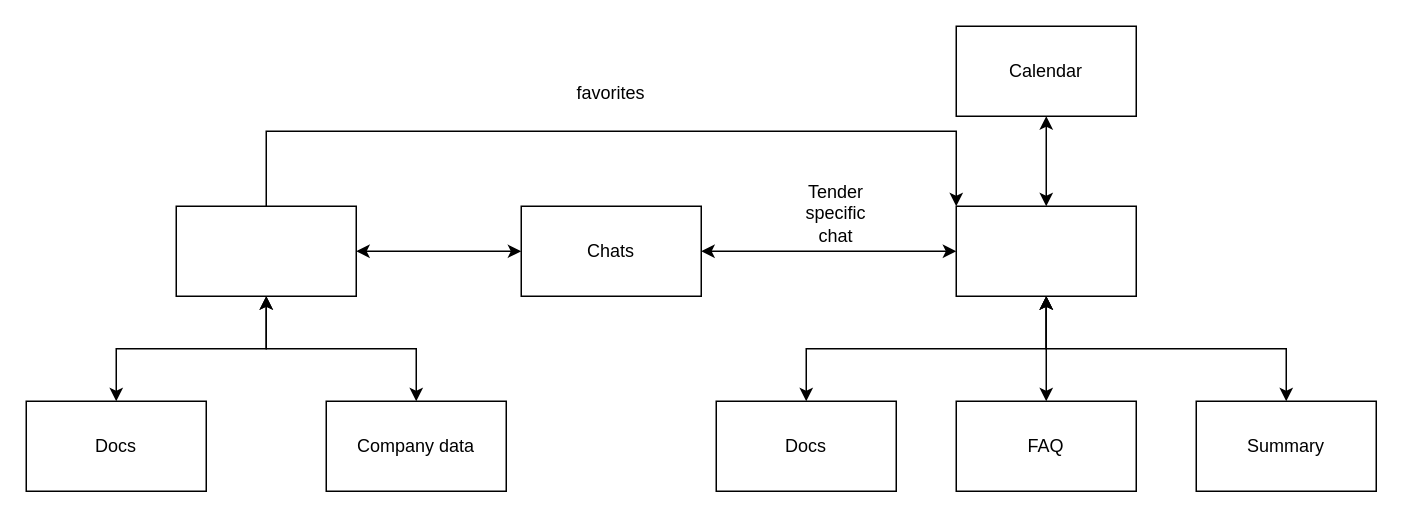
This 1403x518 diagram has some shape labels left out. Each missing label, with the centre of its shape:
"Tenders" goes at [1045,250].
"Users" goes at [265,250].
